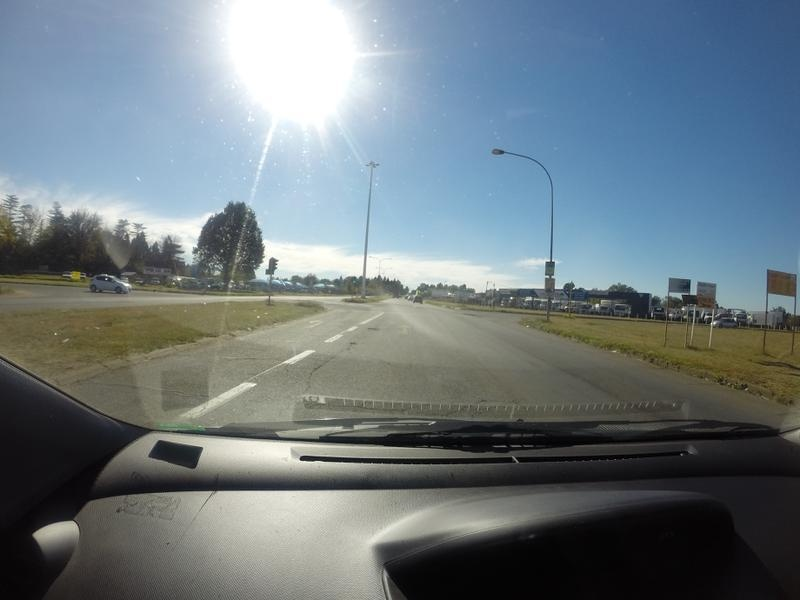pothole: (350, 324, 379, 338)
